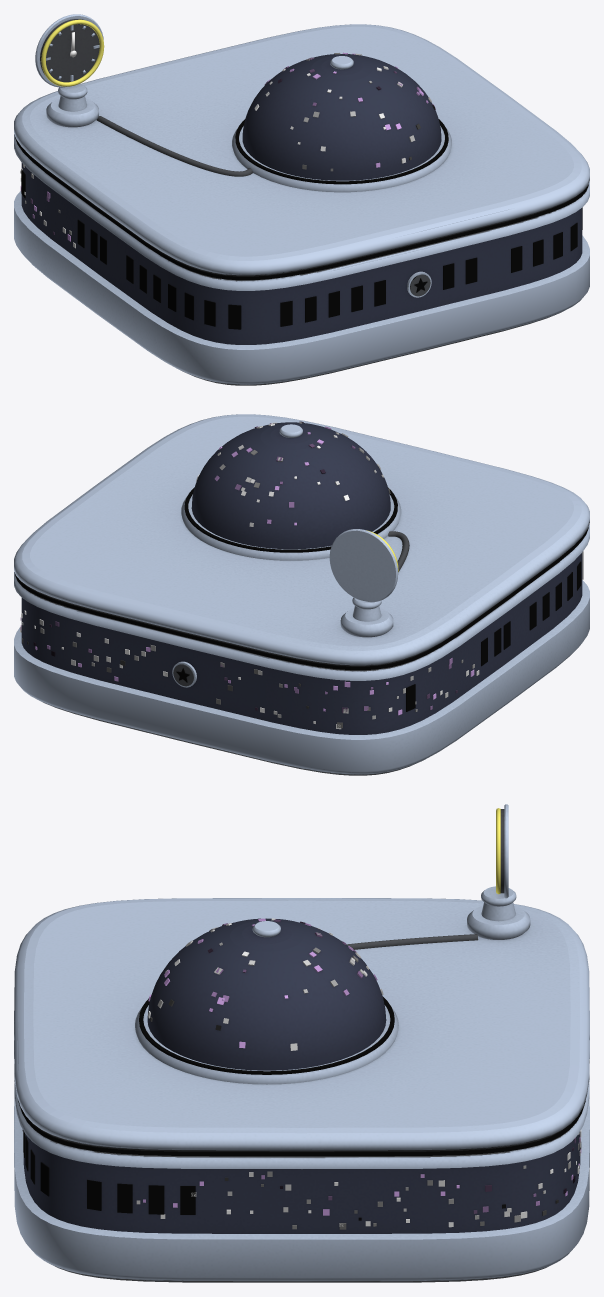
File: SM_Evo_CultureCenter.fbx
The picture shows the model from 3 angles, top to bottom: view 1: azimuth 30°, elevation 25°; view 2: azimuth 150°, elevation 25°; view 3: azimuth 270°, elevation 25°; orthographic projection. The views are drawn at different scales.
Parts seen in each view (by area): view 1: SMN_Evo_CultureCenter, Emblem_Fx_CultureCenter, SpinClock_CultureCenter; view 2: SMN_Evo_CultureCenter, Emblem_Fx_CultureCenter; view 3: SMN_Evo_CultureCenter, Emblem_Fx_CultureCenter.
Boxes of the visible parts, box(x1,y1,x2,y2) form: SMN_Evo_CultureCenter: box(14, 14, 589, 385); Emblem_Fx_CultureCenter: box(15, 52, 588, 329); SpinClock_CultureCenter: box(41, 19, 104, 86); SMN_Evo_CultureCenter: box(14, 414, 589, 775); Emblem_Fx_CultureCenter: box(15, 421, 588, 729); SMN_Evo_CultureCenter: box(14, 804, 589, 1282); Emblem_Fx_CultureCenter: box(18, 918, 585, 1229).
Size of the model in its own units: 1.64 by 0.866 by 1.64.
